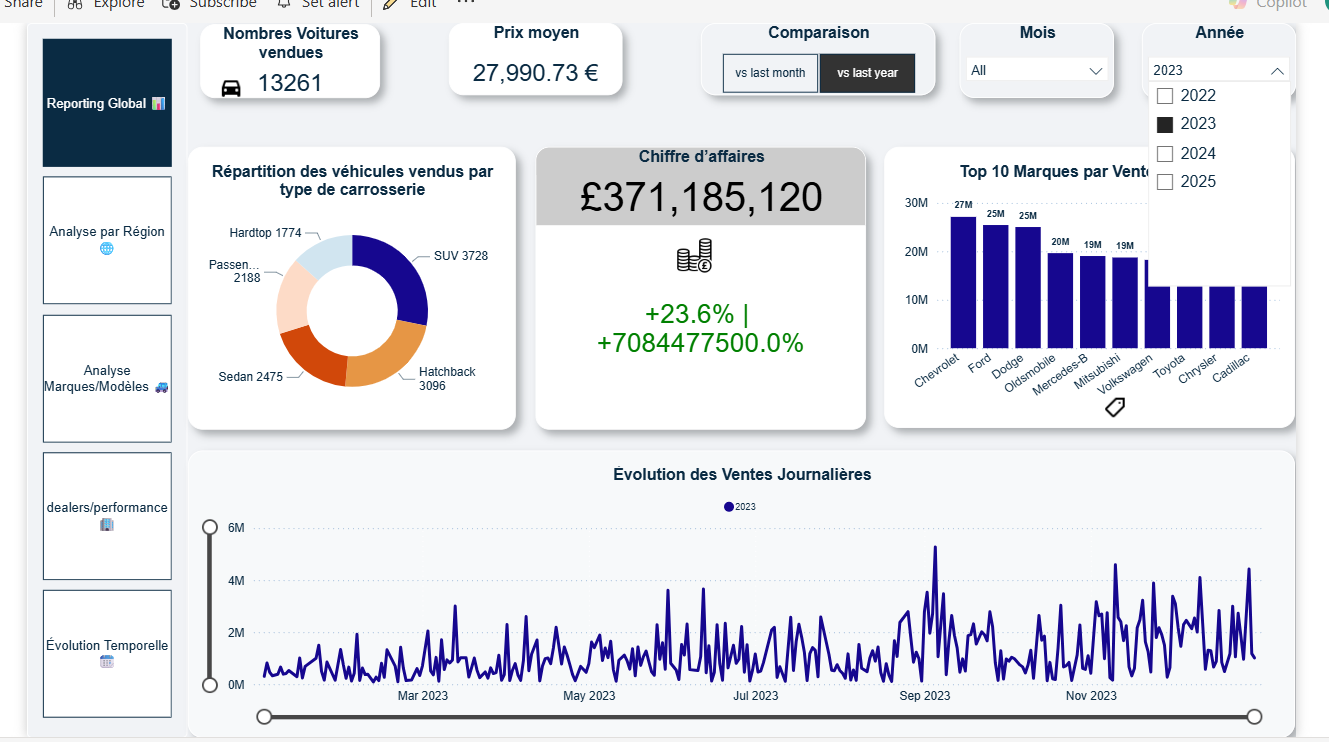

This screenshot's page, from the dashboard's own definition file:
{"tool":"powerbi","page":{"name":" Reporting Global 📊 ","canvas":[1280,720],"ordinal":0},"visuals":[{"type":"pageNavigator","box":[0,0,161.9,720.6],"z":0},{"type":"card","title":"Chiffre d’affaires","fields":{"Values":["mesmesure.KPI Total Sales vs last month"]},"box":[513.3,124.7,333.6,285],"z":1000},{"type":"card","title":"Nombres Voitures vendues","fields":{"Values":["mesmesure.Cars Sold"]},"box":[174.9,1.6,181.4,74.5],"z":2000},{"type":"card","title":"Prix moyen","fields":{"Values":["mesmesure.Average Price"]},"box":[425,0,174.9,72.9],"z":3000},{"type":"clusteredColumnChart","title":"Top 10 Marques par Ventes Totales","fields":{"Category":["Ventes.Company"],"Y":["mesmesure.Total Sales"]},"box":[864.7,124.7,414.5,283.4],"z":4000},{"type":"donutChart","title":"Répartition des véhicules vendus par type de carrosserie","fields":{"Category":["Ventes.BodyStyle"],"Y":["mesmesure.Cars Sold"]},"box":[161.9,124.7,330.3,285],"z":5000},{"type":"lineChart","title":"Évolution des Ventes Journalières","fields":{"Category":["DateTable.Date.Variation.Date Hierarchy.Year"],"Y":["mesmesure.Total Sales"],"Series":["DateTable.Year"]},"box":[162.2,431.1,1116.6,289.5],"z":6000},{"type":"slicer","title":"Mois","fields":{"Values":["DateTable.Month"]},"box":[940.3,0,156,75.7],"z":7000},{"type":"slicer","title":"Année","fields":{"Values":["DateTable.Year"]},"box":[1123.7,0,155.4,76.1],"z":8000},{"type":"slicer","title":"Comparaison","fields":{"Values":["Comparaison.Comparaison"]},"box":[679.9,0,236.2,72.7],"z":9000},{"type":"image","box":[610.8,202,125.7,65.2],"z":10000},{"type":"image","box":[174.3,38.7,62.9,54.9],"z":11000},{"type":"image","box":[1050.4,359.8,93.6,54.9],"z":12000}]}

Visuals, with their boxes on the page's 1280x720 design canvas (x1, y1, x2, y2). These are canvas units, not pixel positions in the 1329x742 screenshot, which may show the page scaled, cropped or inside an application window:
pageNavigator: 0/0/162/721
"Chiffre d’affaires" card: 513/125/847/410
"Nombres Voitures vendues" card: 175/2/356/76
"Prix moyen" card: 425/0/600/73
"Top 10 Marques par Ventes Totales" clusteredColumnChart: 865/125/1279/408
"Répartition des véhicules vendus par type de carrosserie" donutChart: 162/125/492/410
"Évolution des Ventes Journalières" lineChart: 162/431/1279/721
"Mois" slicer: 940/0/1096/76
"Année" slicer: 1124/0/1279/76
"Comparaison" slicer: 680/0/916/73
image: 611/202/736/267
image: 174/39/237/94
image: 1050/360/1144/415
